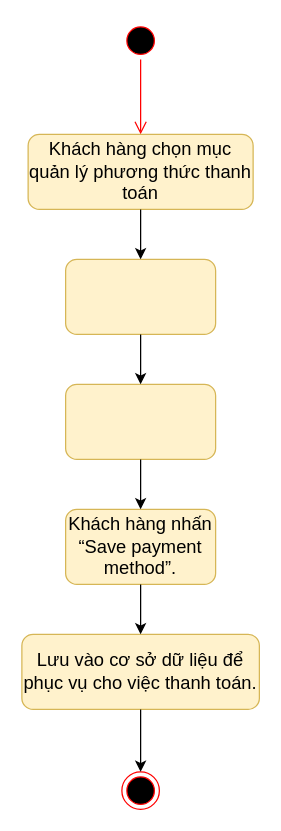
The diagram is 281 pixels wide and 831 high, and some of its shapes have lost their labels. The shapes that lost their labels are listed below. From the top down, each one's box as (x1, y1, x2, y2) in pixels, then its label:
(64, 258, 216, 334): Hệ thống hiển thị các phương thức thanh toán.
(64, 383, 216, 459): Khách hàng điền thông tin tài khoản.
